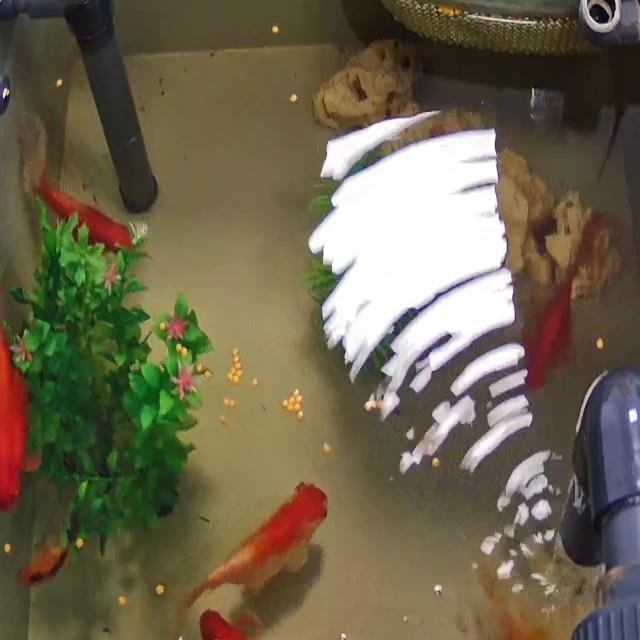fish: (182, 482, 328, 611), (33, 171, 135, 257), (522, 276, 577, 388), (0, 329, 33, 514), (194, 607, 306, 640), (16, 538, 73, 590)
